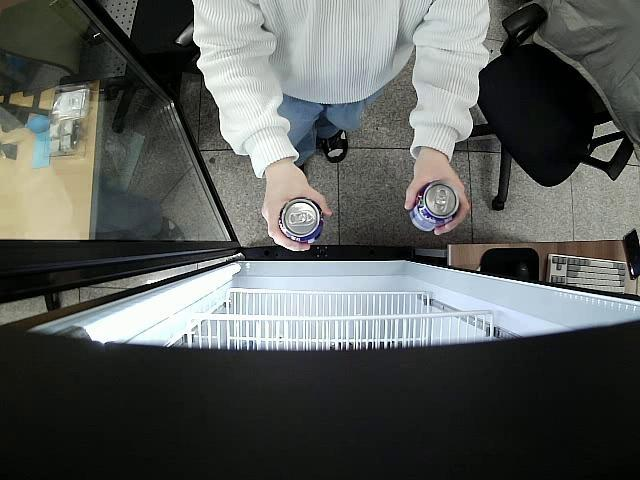14_welchsGrape: (407, 179, 460, 234), (278, 198, 323, 246)
